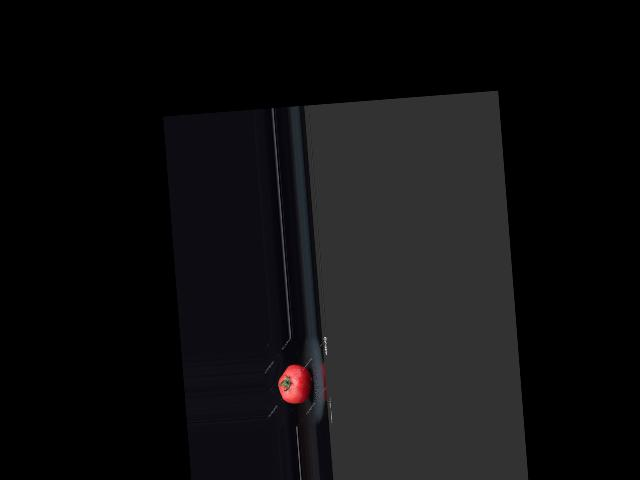tomato: (276, 363, 313, 405)
